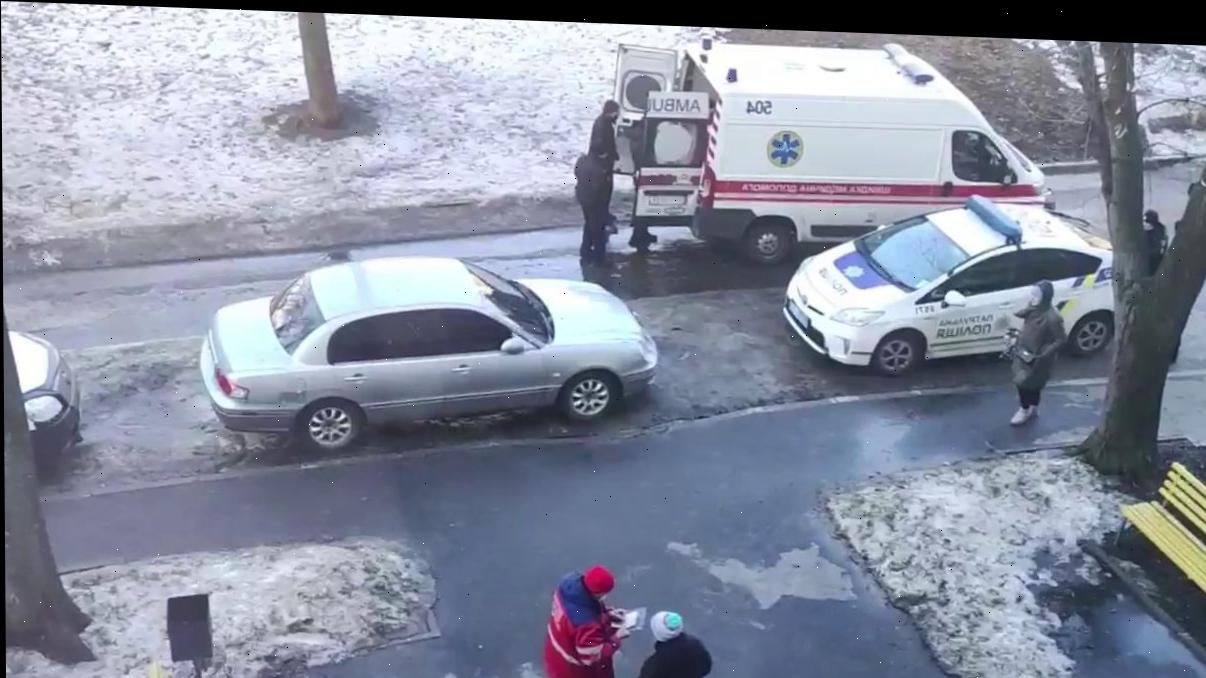car: (193, 244, 662, 460), (775, 187, 1123, 380)
person: (538, 560, 646, 678), (1003, 276, 1067, 428), (572, 140, 623, 260), (634, 607, 711, 678), (588, 99, 624, 174)
